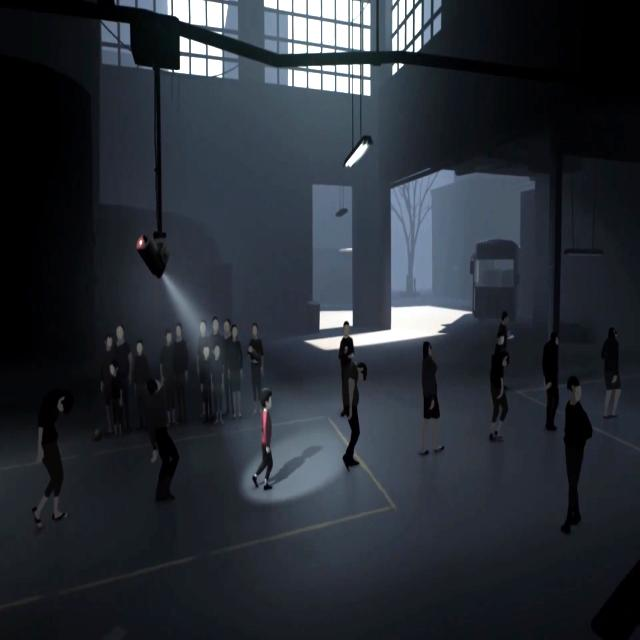boy: (253, 386, 274, 492)
human: (114, 324, 131, 439), (172, 323, 190, 428), (134, 339, 152, 433), (247, 322, 264, 415), (98, 332, 113, 437), (228, 325, 244, 420), (159, 328, 173, 429), (199, 344, 213, 424), (338, 322, 355, 370), (495, 310, 512, 346), (210, 316, 221, 344)
zombie: (34, 387, 72, 524), (146, 376, 180, 503), (340, 360, 367, 468), (420, 340, 443, 454), (488, 349, 510, 442), (601, 327, 620, 420), (543, 334, 559, 431)
